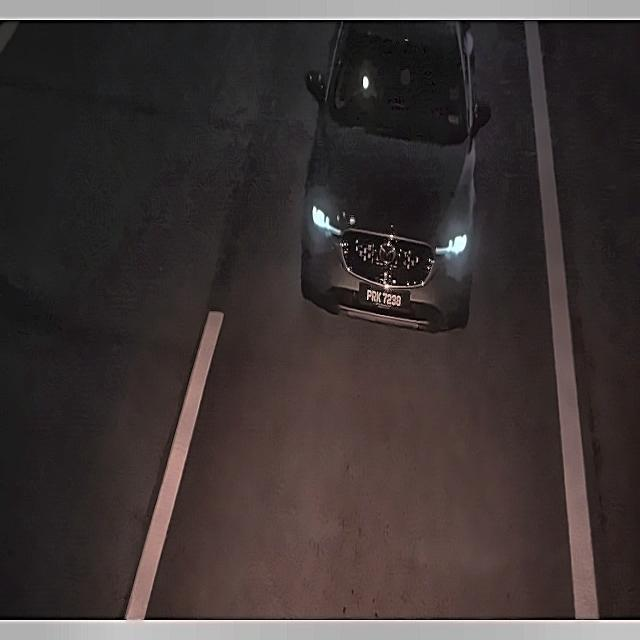car: (355, 274, 416, 318)
